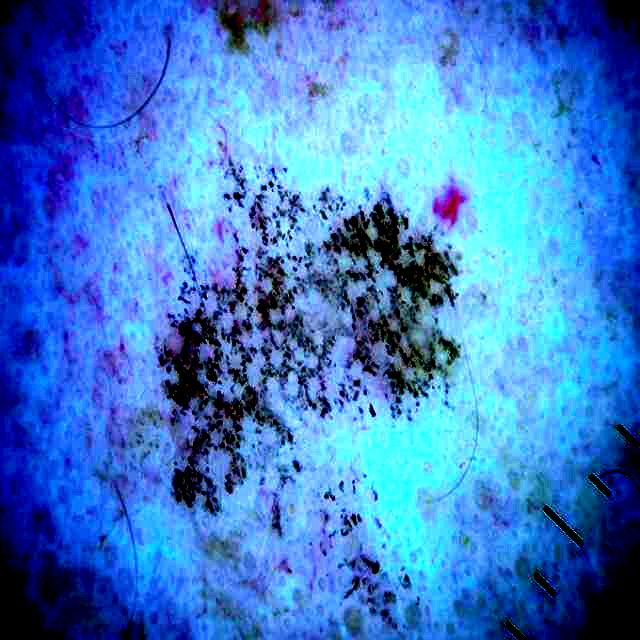BKL: (160, 162, 477, 528)
